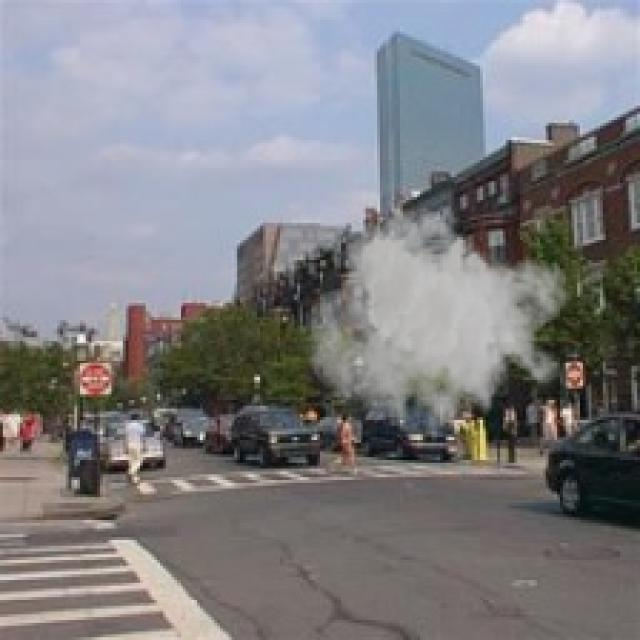smoke: (306, 200, 571, 454)
